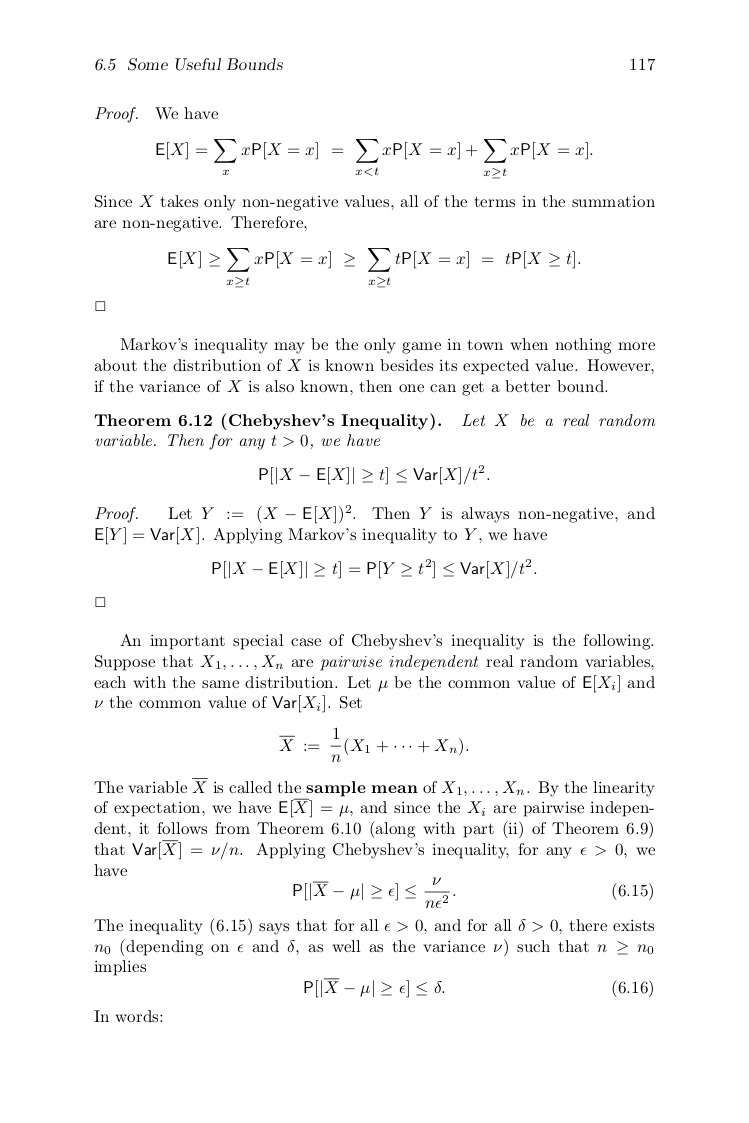formula: (156, 139, 592, 178), (168, 248, 580, 287), (293, 876, 652, 909), (279, 726, 468, 763), (212, 558, 536, 579), (304, 978, 652, 997), (259, 464, 489, 485)
